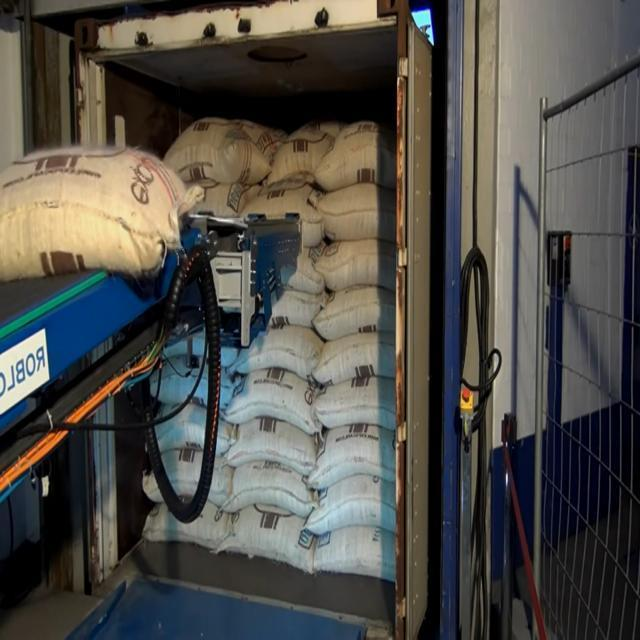gunny_bag: (0, 145, 203, 280), (163, 116, 287, 184), (218, 504, 316, 573), (223, 367, 321, 435), (313, 120, 396, 191), (308, 424, 395, 490), (305, 474, 395, 535), (224, 417, 317, 476), (223, 461, 318, 518), (267, 116, 342, 184), (230, 324, 324, 378), (314, 182, 396, 241), (313, 526, 395, 582), (312, 376, 396, 430), (312, 285, 395, 339), (312, 331, 395, 384), (315, 238, 396, 290)
